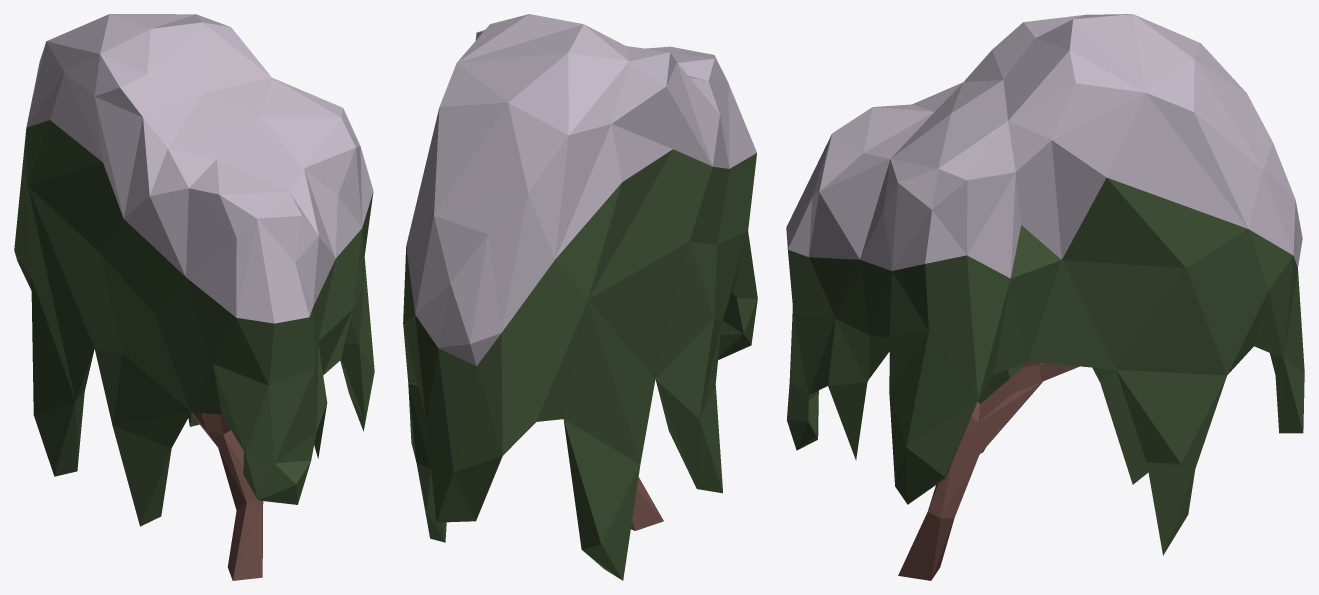
Rendered from Willow_Snow_1.lod2.glb.
3 views of the same model, side by side, from view 1: azimuth 30°, elevation 25°; view 2: azimuth 150°, elevation 25°; view 3: azimuth 270°, elevation 25° (orthographic). The views are drawn at different scales.
Visible parts, largest first — view 1: Willow_Snow_1; view 2: Willow_Snow_1; view 3: Willow_Snow_1.
Part boxes in pixels (box(x1,y1,x2,y2)): Willow_Snow_1: box(14, 14, 374, 580); Willow_Snow_1: box(403, 14, 757, 580); Willow_Snow_1: box(786, 14, 1304, 580).
Bounding box in the file's own units: 1.44 × 2.94 × 2.55.
